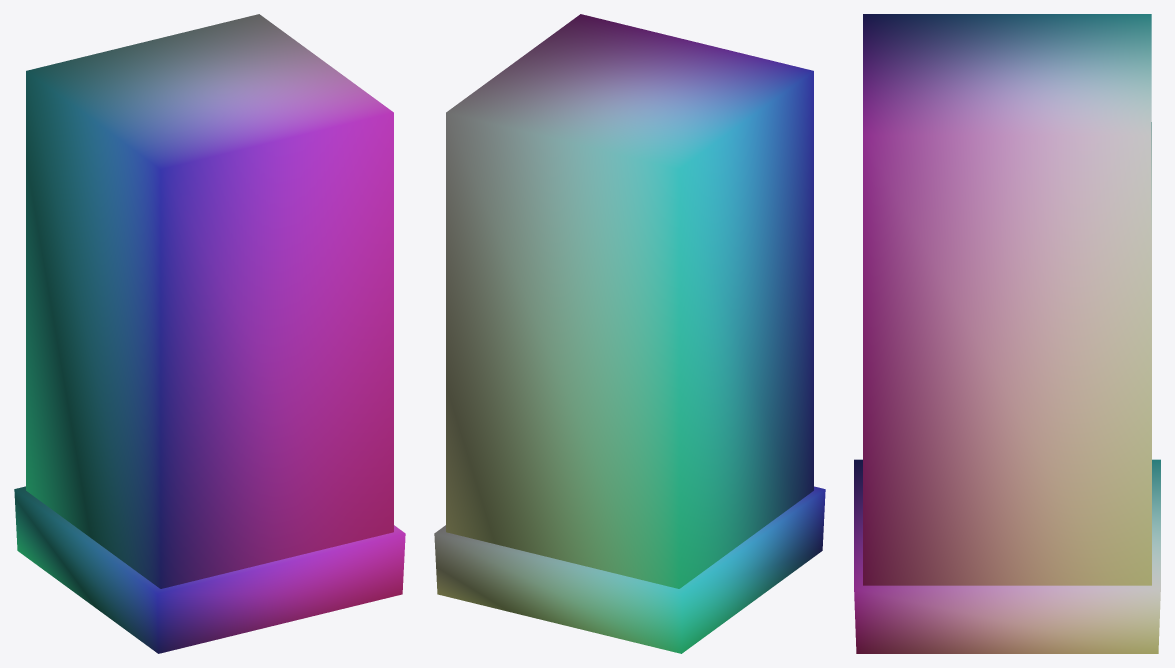
The model's file is SM_Pit_Wall_A_LOD1.fbx.
3 renders of one model, left to right at view 1: azimuth 30°, elevation 25°; view 2: azimuth 150°, elevation 25°; view 3: azimuth 270°, elevation 25°, orthographic. The views are drawn at different scales.
Visible parts, largest first — view 1: SM_Pit_Wall_A_LOD1; view 2: SM_Pit_Wall_A_LOD1; view 3: SM_Pit_Wall_A_LOD1.
Part boxes in pixels (x1,y1,x2,y2): SM_Pit_Wall_A_LOD1: [14, 14, 405, 653]; SM_Pit_Wall_A_LOD1: [434, 14, 825, 653]; SM_Pit_Wall_A_LOD1: [854, 14, 1160, 653].
Bounding box in the file's own units: 1.08 × 2.01 × 1.08.
